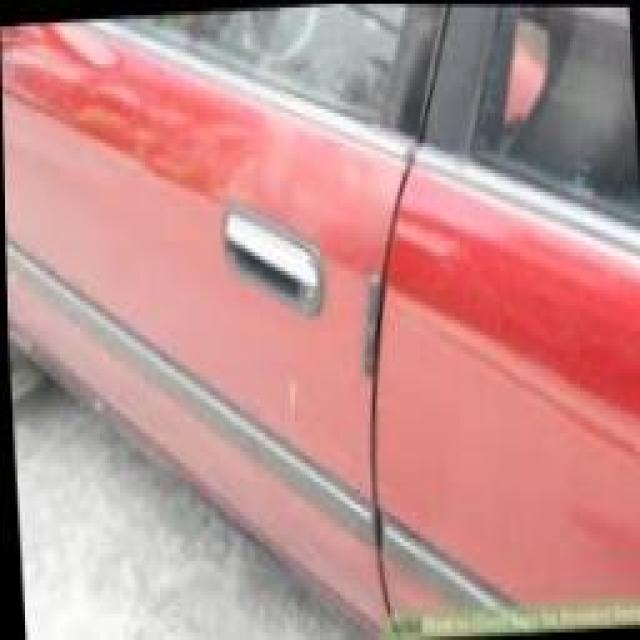Door: (218, 294, 354, 479)
